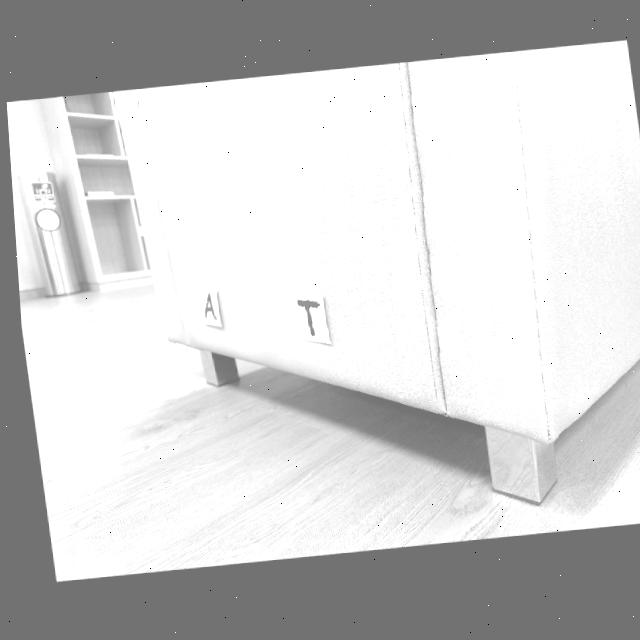A: (200, 294, 211, 321)
T: (292, 300, 314, 337)
